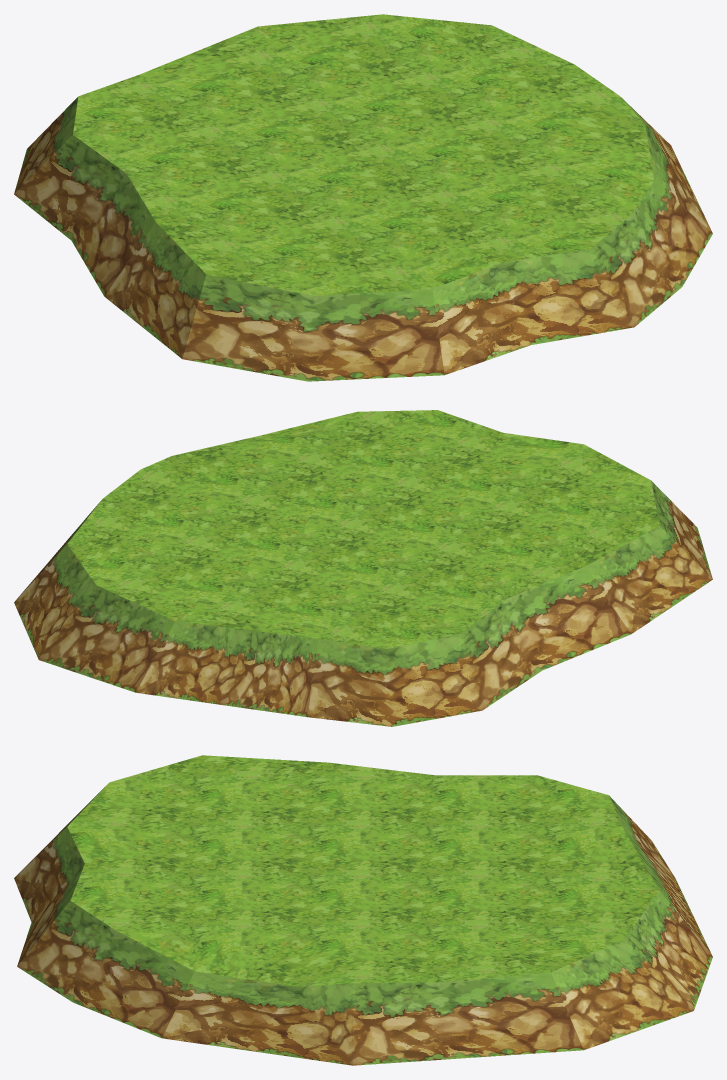
Rendered from ground_Terrain_00.fbx.
The picture shows the model from 3 angles, top to bottom: view 1: azimuth 30°, elevation 25°; view 2: azimuth 150°, elevation 25°; view 3: azimuth 270°, elevation 25°; orthographic projection. The views are drawn at different scales.
Parts seen in each view (by area): view 1: ground_Terrain_00; view 2: ground_Terrain_00; view 3: ground_Terrain_00.
Boxes of the visible parts, x1=… form: ground_Terrain_00: x1=14, y1=14, x2=712, y2=381; ground_Terrain_00: x1=14, y1=410, x2=712, y2=726; ground_Terrain_00: x1=14, y1=755, x2=712, y2=1065.
Bounding box in the file's own units: 1083 × 110 × 1181.
